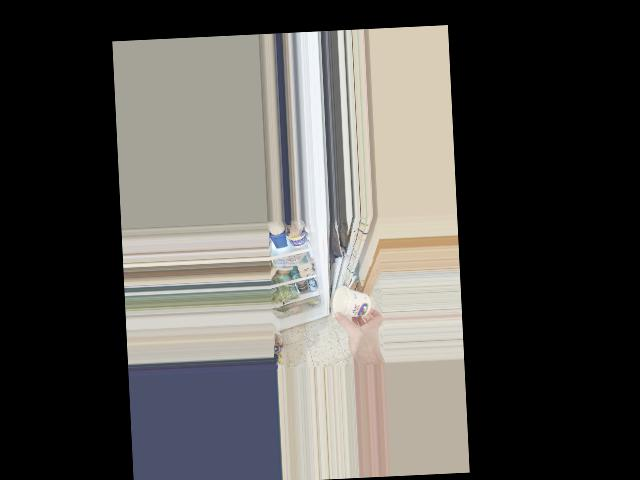cotage: (332, 287, 372, 321)
